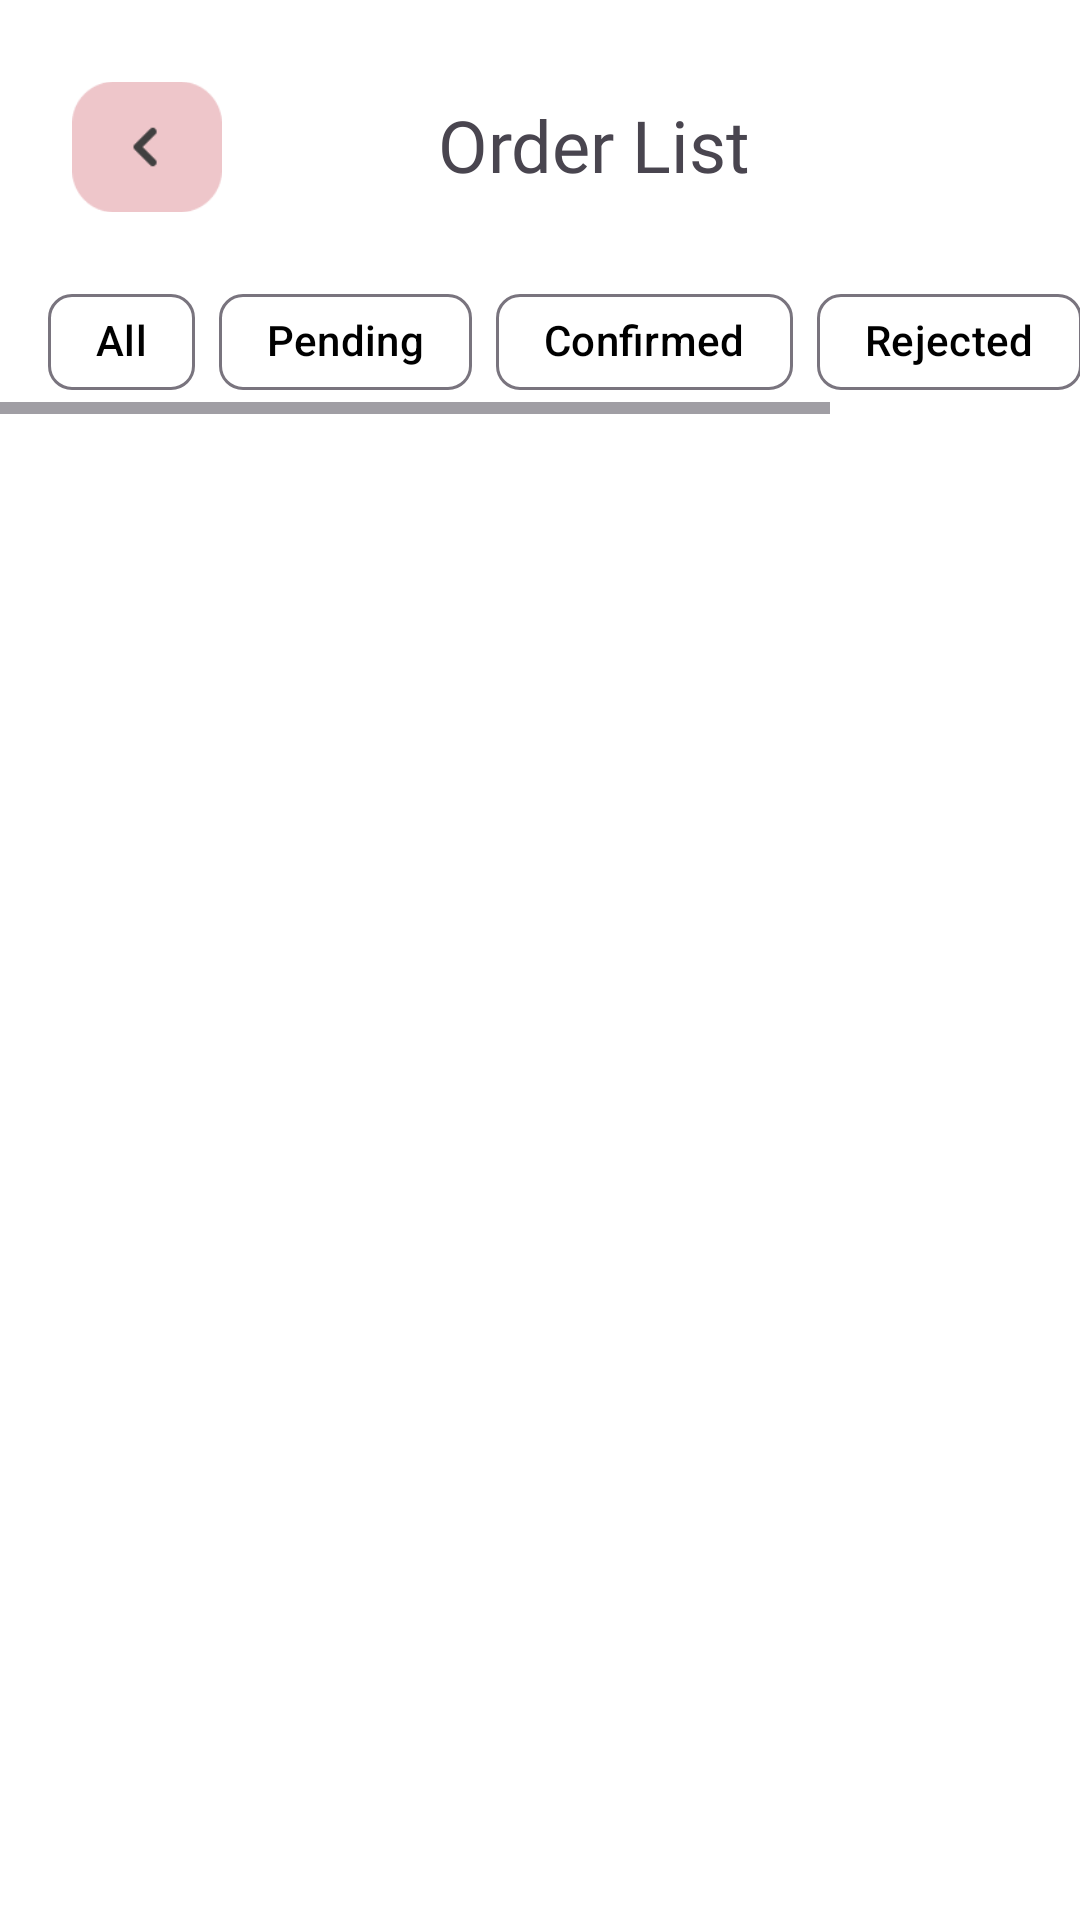

Locate icon controls on the screen. Image size 1080*1920, boxes as (x1, y1, x2, y2).
Back Button: (72, 82, 222, 212)
